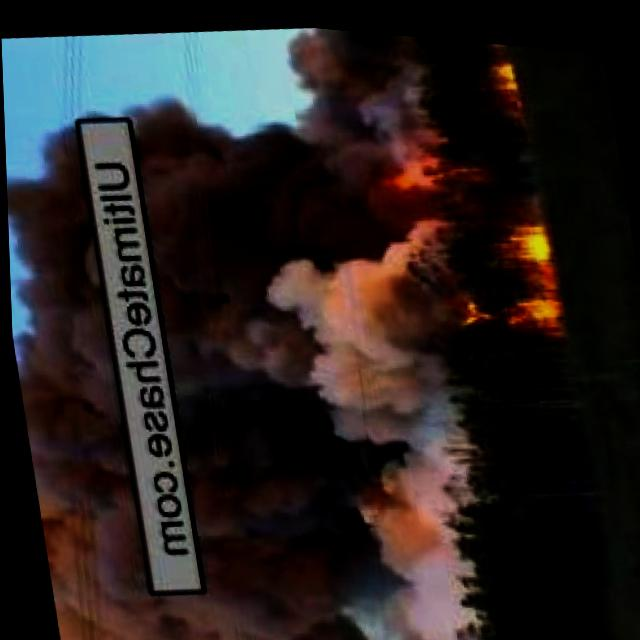helmet: (443, 205, 567, 333), (349, 141, 456, 203), (488, 43, 524, 89)
no_helmet: (119, 59, 487, 640), (3, 115, 155, 640)
